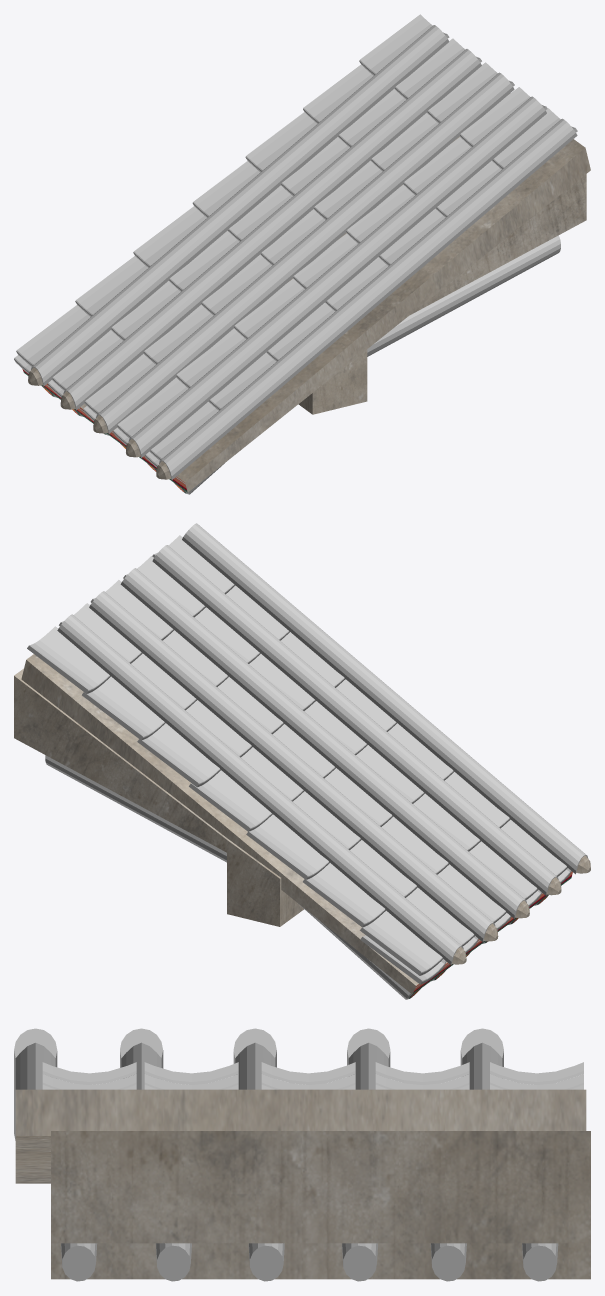
Rendered from SM_Roof_2.fbx.
3 renders of one model, top to bottom at view 1: azimuth 30°, elevation 25°; view 2: azimuth 150°, elevation 25°; view 3: azimuth 270°, elevation 25°, orthographic. The views are drawn at different scales.
Visible parts, largest first — view 1: SM_Roof_2; view 2: SM_Roof_2; view 3: SM_Roof_2.
Boxes of the visible parts, x1,y1,x2,y2 form: SM_Roof_2: (14, 14, 590, 494); SM_Roof_2: (14, 523, 590, 999); SM_Roof_2: (14, 1028, 590, 1281).
Bounding box in the file's own units: 336 × 222 × 218.
